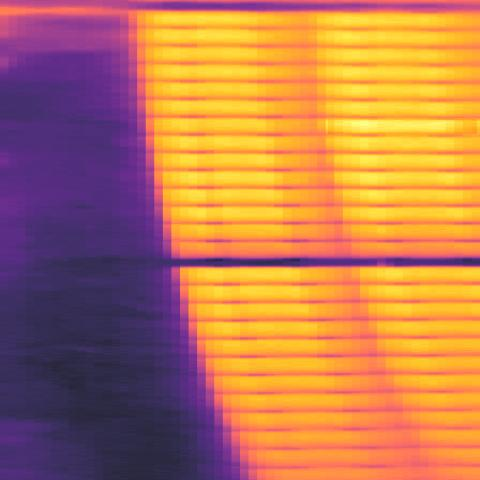fault: (328, 119, 477, 134)
